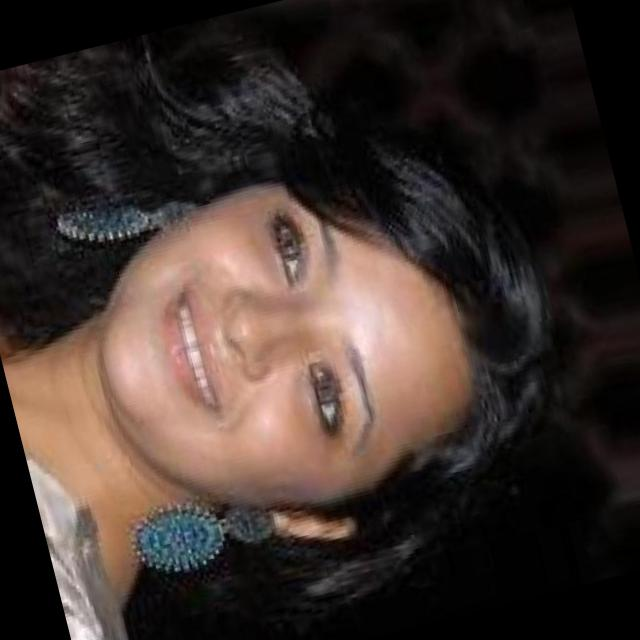bareface: (48, 132, 506, 554)
